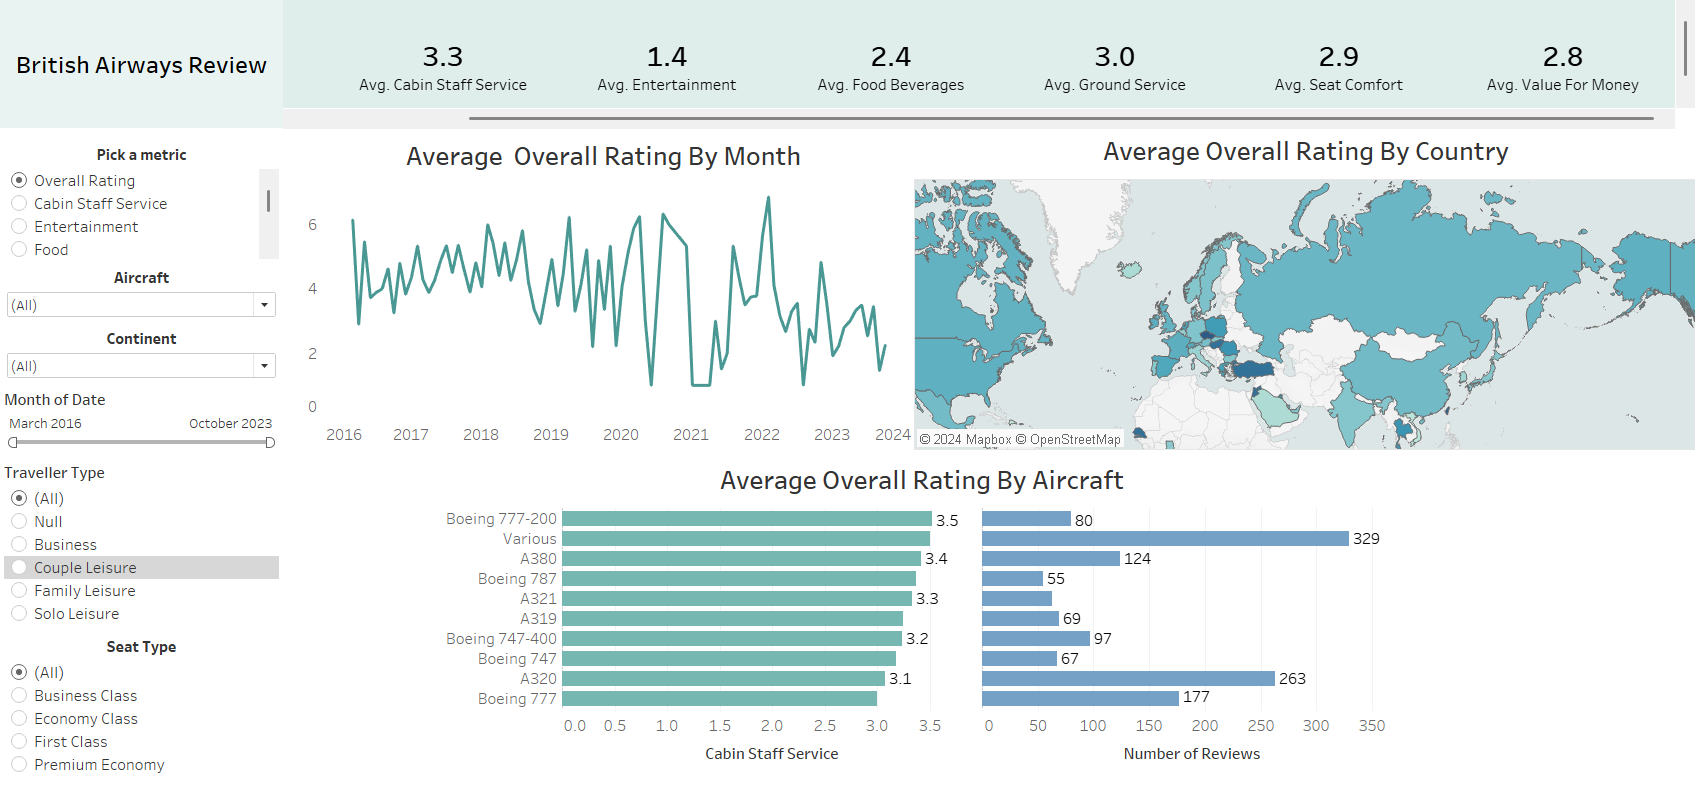

The page's visual inventory and layout, read from the dashboard file:
{"tool":"tableau","page":{"name":"Dashboard 1","canvas":[1700,900],"ordinal":0},"visuals":[{"type":"text","box":[0,0,283,129]},{"type":"worksheet","title":"Summary","mark":"Automatic","box":[283,1,1413,129]},{"type":"worksheet","title":"Map","mark":"Automatic","box":[914,130,784,321]},{"type":"worksheet","title":"Month","mark":"Automatic","rows":["Calculation_1234549258111352832"],"cols":["date"],"box":[294,135,619,313]},{"type":"parameter","param":"[Parameters].[Parameter 1]","box":[0,141.4,283.3,123]},{"type":"filter","title":"Map","param":"[federated.0lbq2eg0eabb3t1gqkwfh1svoqi8].[Aircraft (group)]","box":[0,264.4,283.3,61]},{"type":"filter","title":"Map","param":"[federated.0lbq2eg0eabb3t1gqkwfh1svoqi8].[none:Continent:nk]","box":[0,325.4,283.3,61]},{"type":"filter","title":"Map","param":"[federated.0lbq2eg0eabb3t1gqkwfh1svoqi8].[tmn:date:qk]","box":[0,386.4,283.3,73]},{"type":"worksheet","title":"Aircraft","mark":"Automatic","cols":["cabin_staff_service","ba_reviews.csv_F0FF6845097F4F449583A57A32A8976A"],"box":[292,459,1403,319]},{"type":"filter","title":"Map","param":"[federated.0lbq2eg0eabb3t1gqkwfh1svoqi8].[none:traveller_type:nk]","box":[0,459.4,283.3,174]},{"type":"filter","title":"Map","param":"[federated.0lbq2eg0eabb3t1gqkwfh1svoqi8].[none:seat_type:nk]","box":[0,633.4,283.3,151]}]}

Visuals, with their boxes on the page's 1700x900 design canvas (x1, y1, x2, y2). These are canvas units, not pixel positions in the 1695x795 screenshot, which may show the page scaled, cropped or inside an application window:
text: rect(0, 0, 283, 129)
"Summary" worksheet: rect(283, 1, 1696, 130)
"Map" worksheet: rect(914, 130, 1698, 451)
"Month" worksheet: rect(294, 135, 913, 448)
parameter: rect(0, 141, 283, 264)
"Map" filter: rect(0, 264, 283, 325)
"Map" filter: rect(0, 325, 283, 386)
"Map" filter: rect(0, 386, 283, 459)
"Aircraft" worksheet: rect(292, 459, 1695, 778)
"Map" filter: rect(0, 459, 283, 633)
"Map" filter: rect(0, 633, 283, 784)
